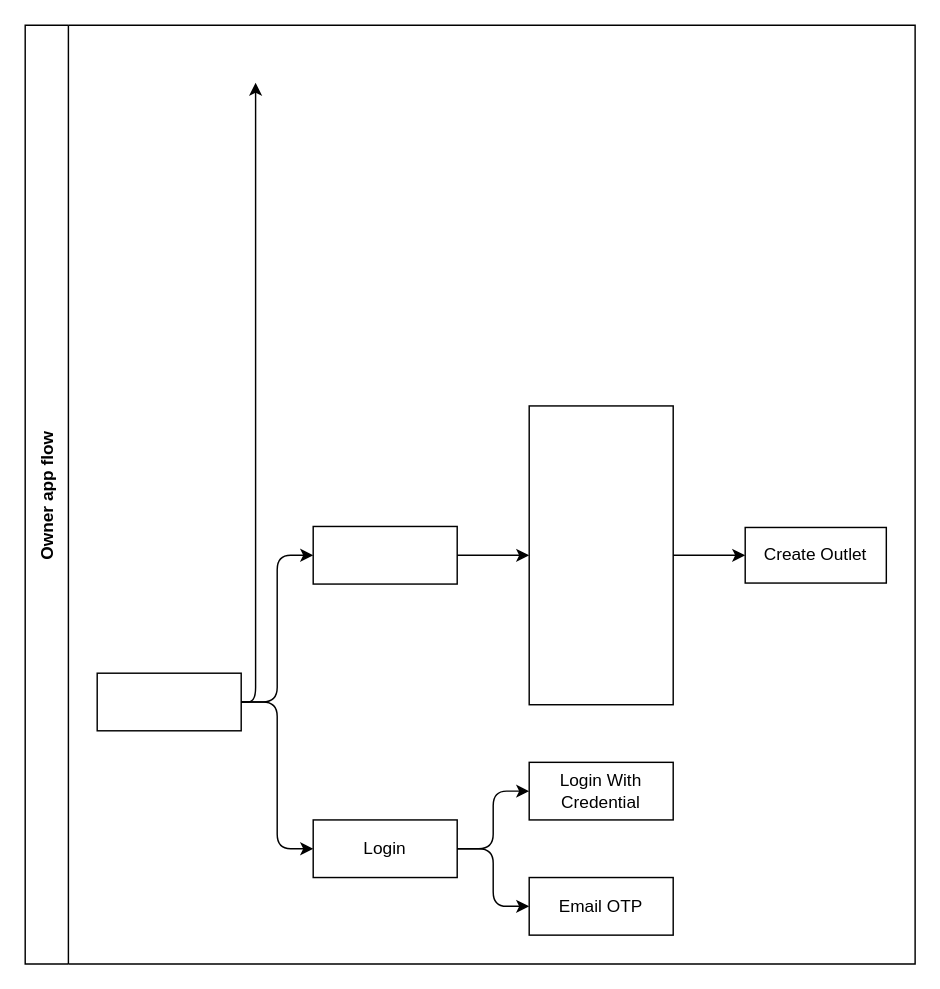
This 940x989 diagram has some shape labels left out. The centre of each missing label's shape, as x and y in pixels:
"Home" goes at point 600,554.
"Sart" goes at point 168,701.
"Sign Up" goes at point 384,554.
